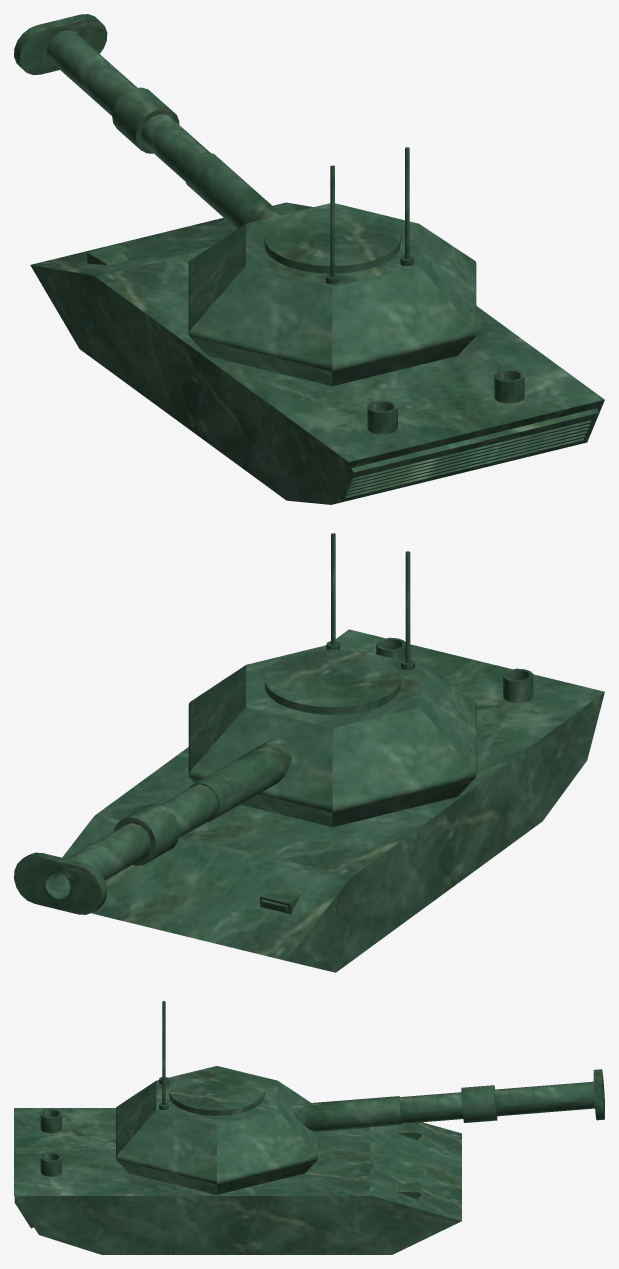
File: asset.glb
The picture shows the model from 3 angles, top to bottom: view 1: azimuth 30°, elevation 25°; view 2: azimuth 150°, elevation 25°; view 3: azimuth 270°, elevation 25°; orthographic projection. The views are drawn at different scales.
Visible parts, largest first — view 1: Těleso1; view 2: Těleso1; view 3: Těleso1.
Part boxes in pixels (left/top/right/bottom): Těleso1: left=14, top=14, right=604, bottom=504; Těleso1: left=14, top=533, right=604, bottom=972; Těleso1: left=14, top=1001, right=604, bottom=1254.
Bounding box in the file's own units: 0.0281 × 0.0261 × 0.0711.
1 material, 1 textured.
